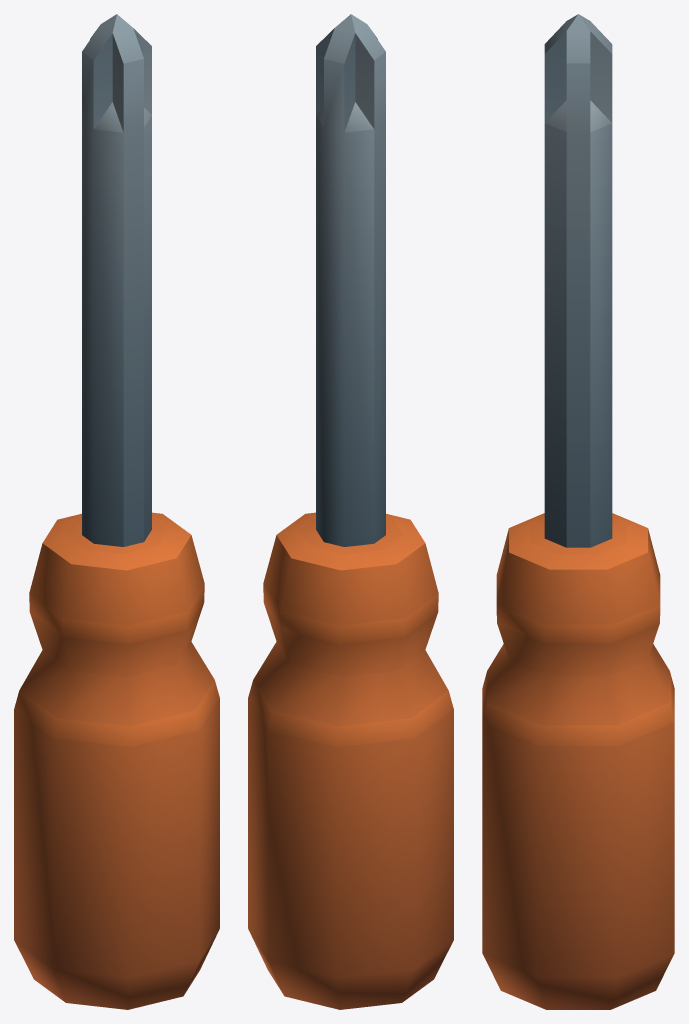
The model's file is screwdriver_B_long_color.glb.
3 views of the same model, side by side, from view 1: azimuth 30°, elevation 25°; view 2: azimuth 150°, elevation 25°; view 3: azimuth 270°, elevation 25° (orthographic).
Visible parts, largest first — view 1: screwdriver_B_long_color; view 2: screwdriver_B_long_color; view 3: screwdriver_B_long_color.
Part boxes in pixels (bbox=[...]): screwdriver_B_long_color: bbox=[14, 14, 219, 1009]; screwdriver_B_long_color: bbox=[248, 14, 453, 1009]; screwdriver_B_long_color: bbox=[482, 14, 674, 1009].
Size of the model in its own units: 0.1513 by 0.8536 by 0.1513.
Materials: 1 (1 with a texture image).
